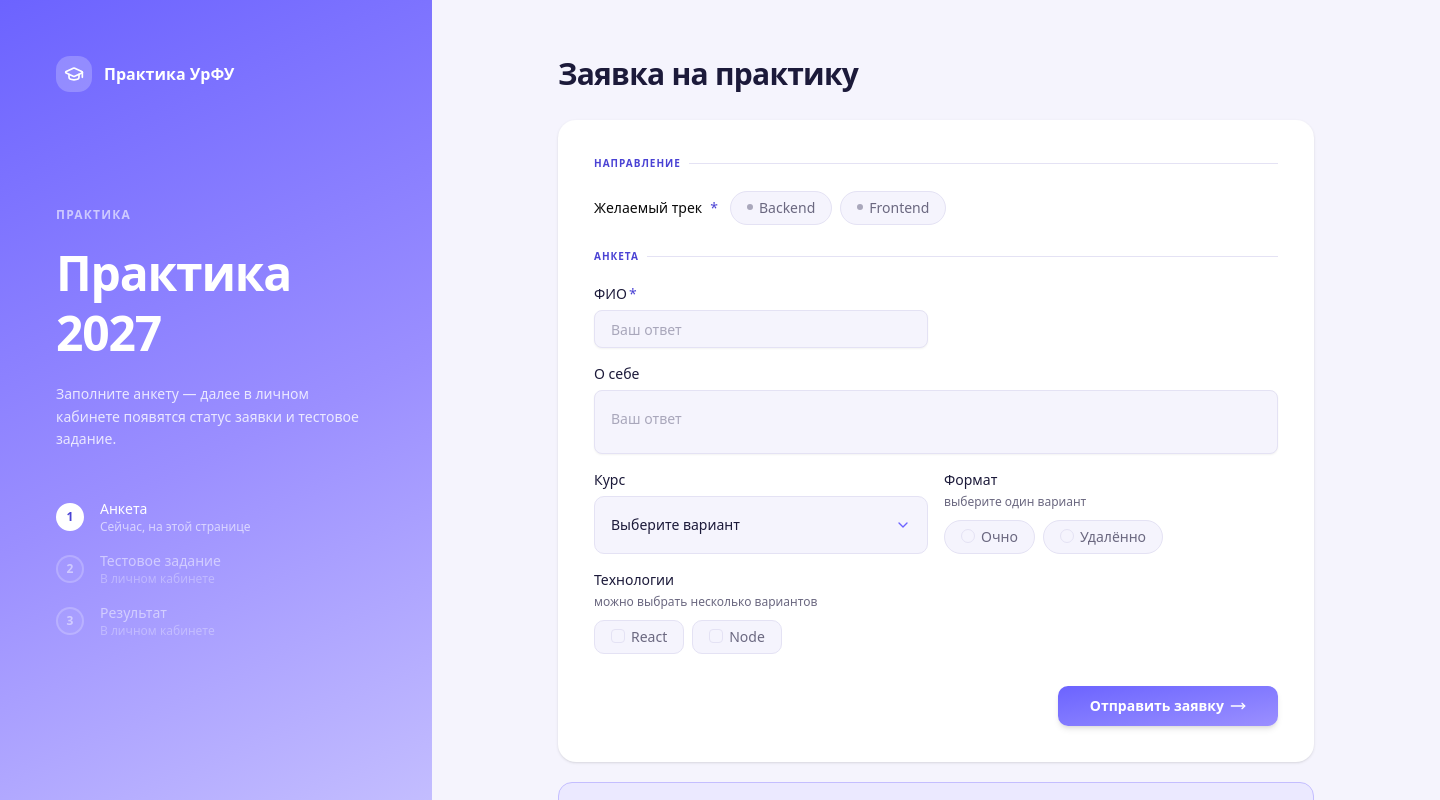
it: ApplyByInvitationPage › отправляет заявку с выбранным треком, ответами на все типы вопросов и показывает подтверждение
Expected: the heading "Заявка на практику" is shown, 558,53 -> 858,94
Click the button "Frontend" at (893, 208), box 840,191 -> 946,225
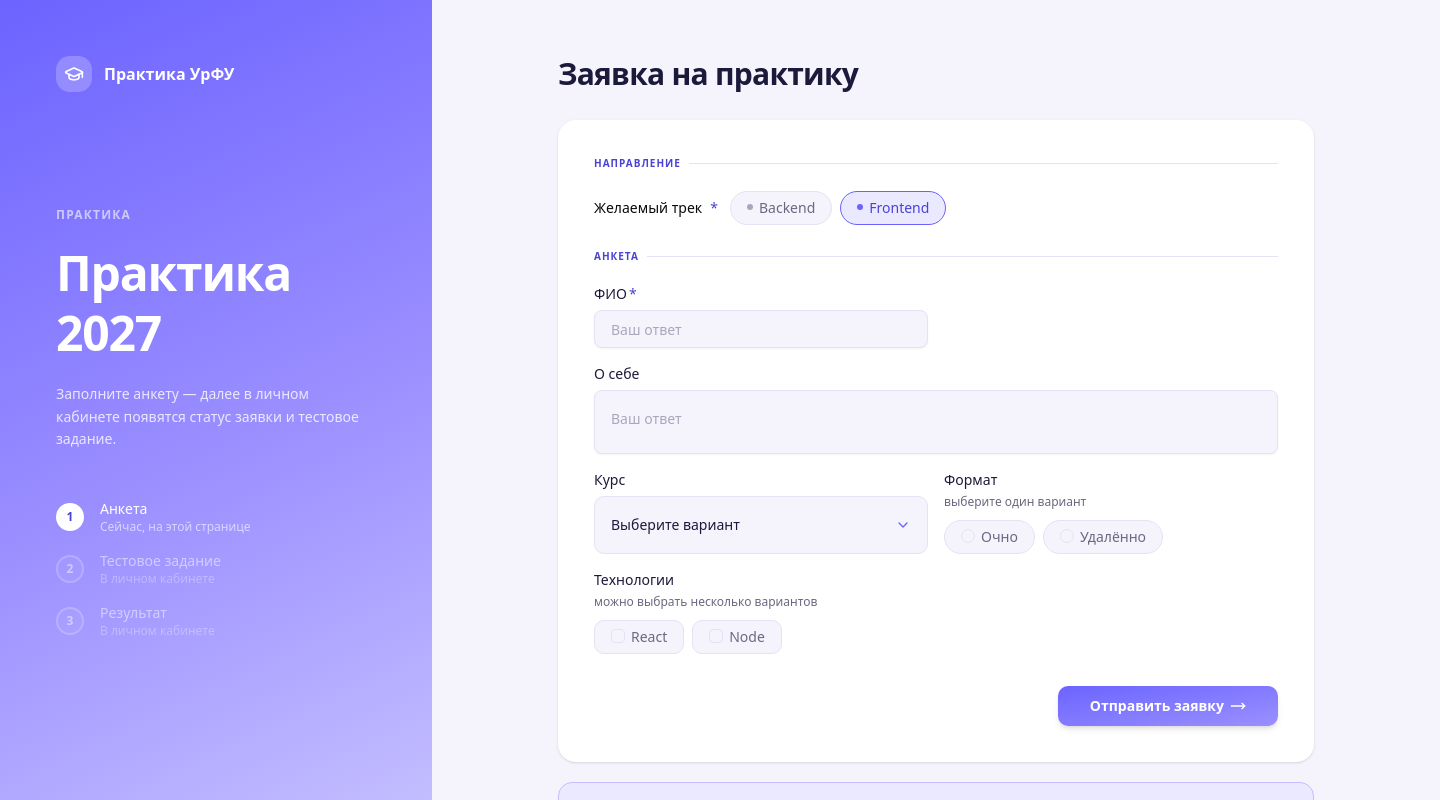
Type "Иванов Иван" into the field with placeholder "Ваш ответ" at (761, 329), box 594,310 -> 928,348
Select "2" in the dropdown at (761, 525), box 594,496 -> 928,554
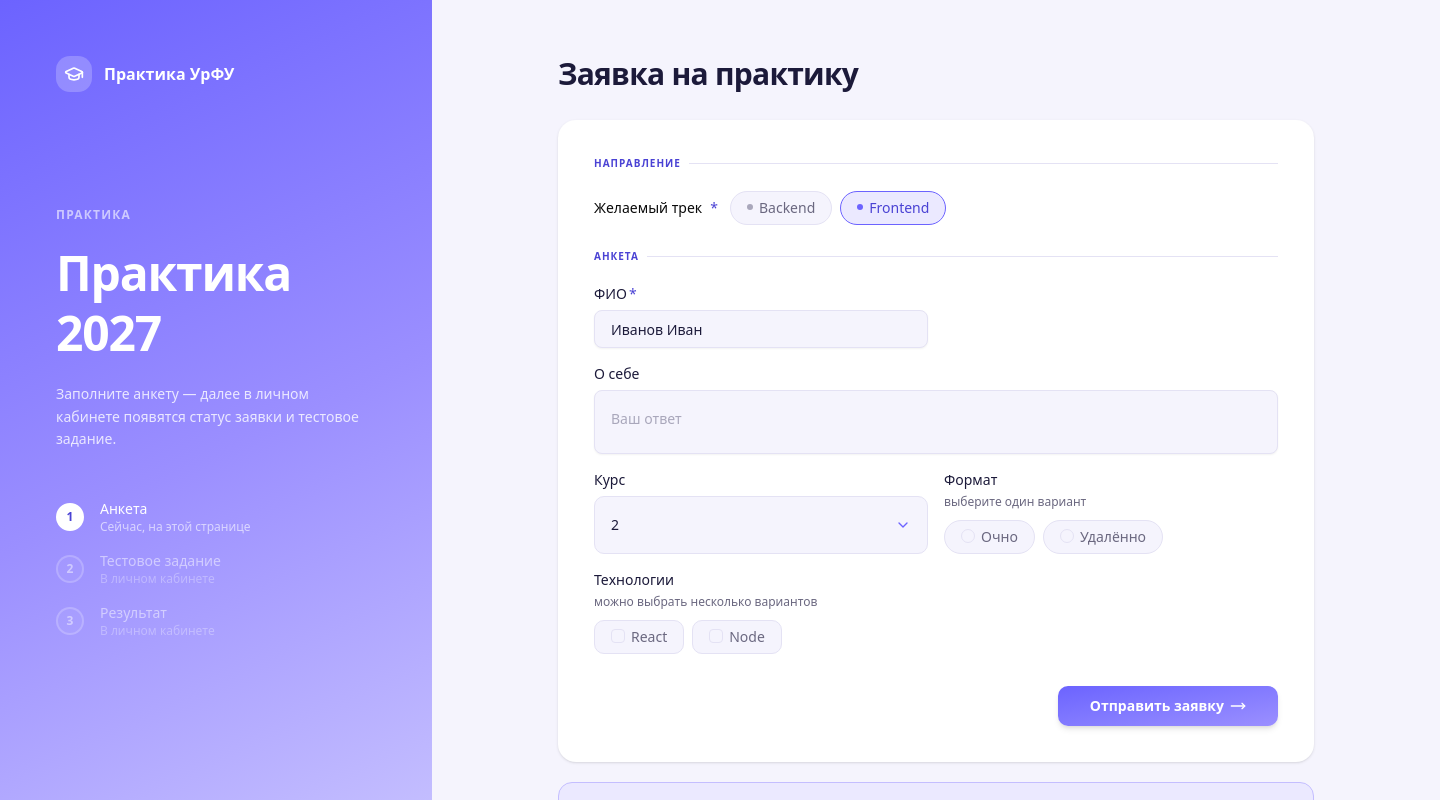
Click the button "Удалённо" at (1103, 537), box 1043,520 -> 1163,554
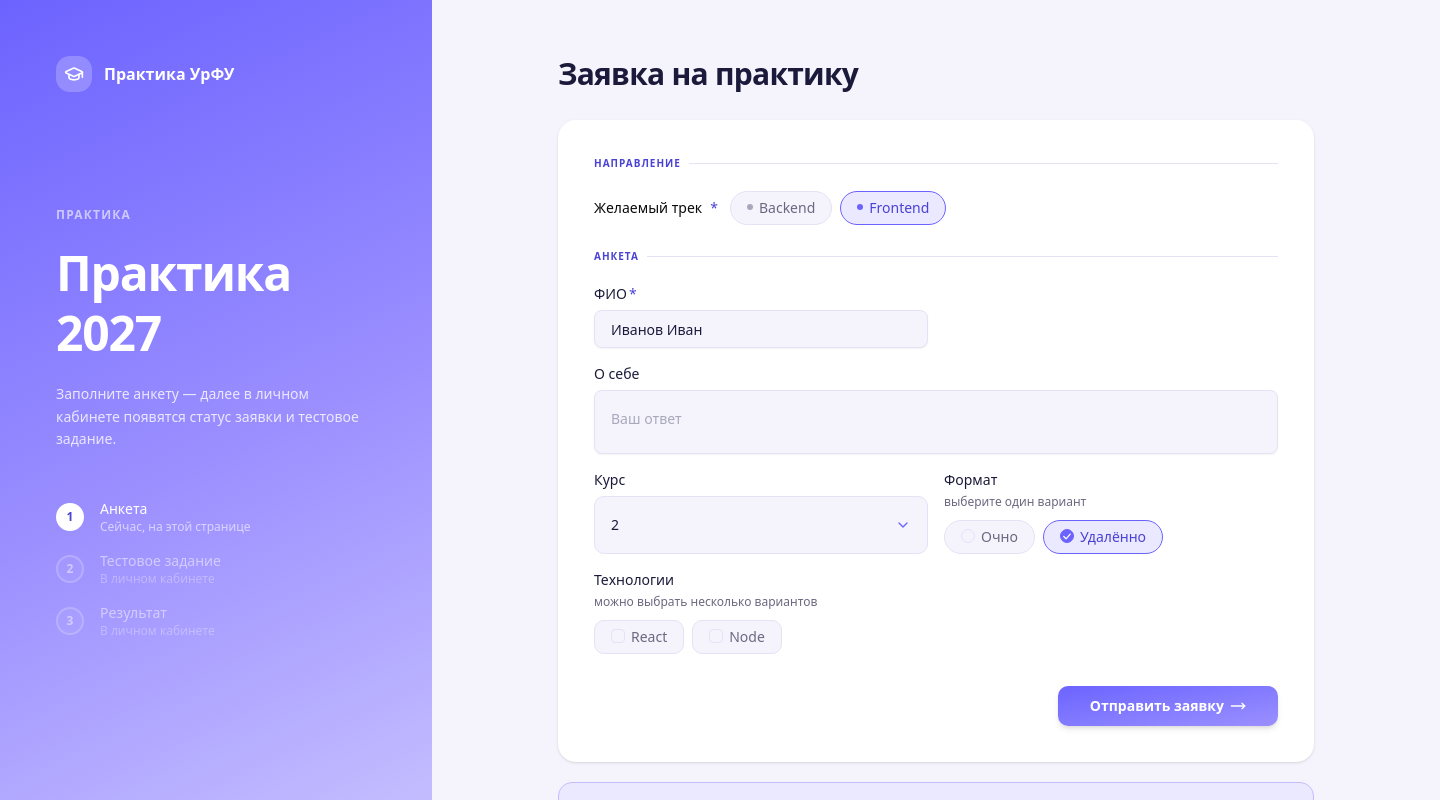
Click the button "React" at (639, 637), box 594,620 -> 684,654
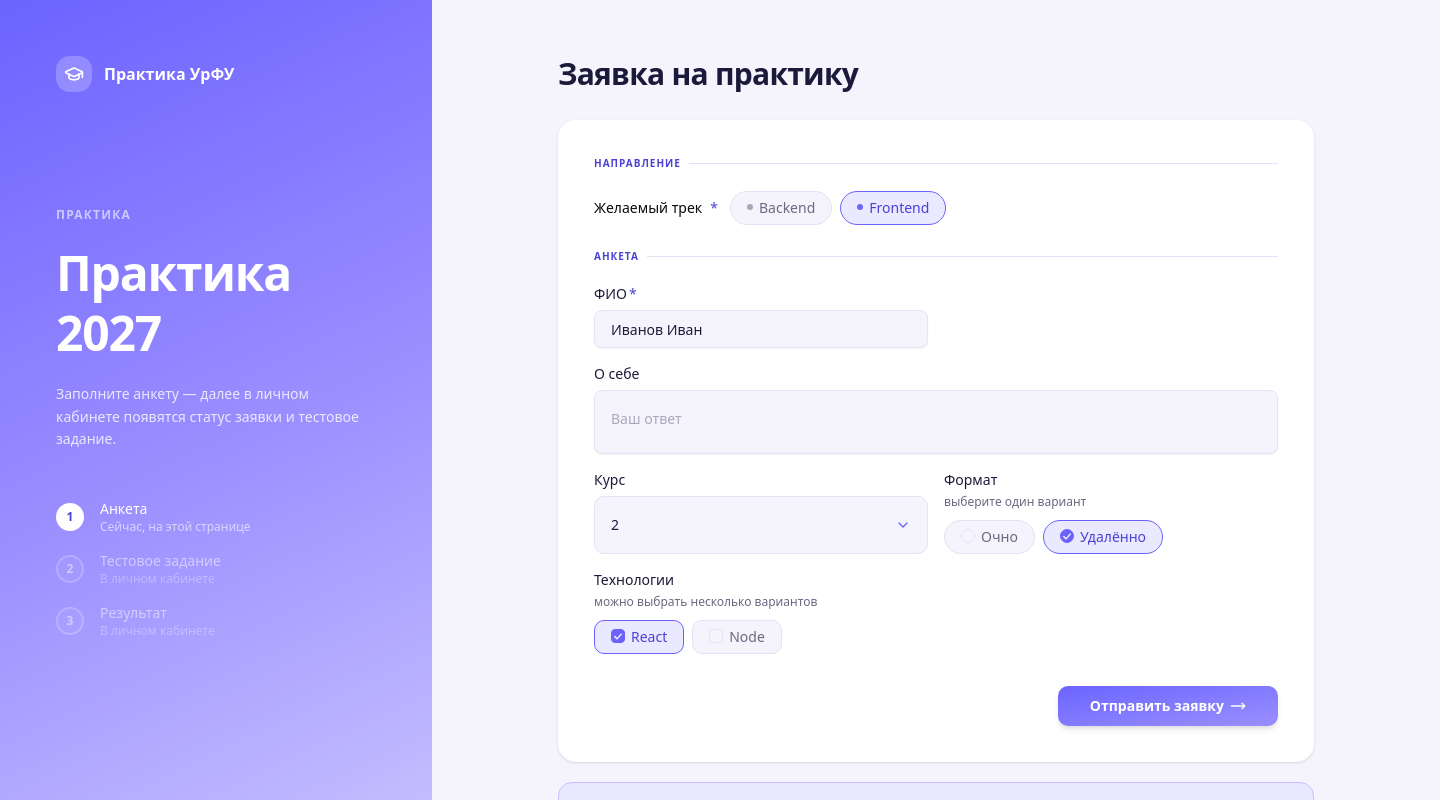
Click the button "Node" at (737, 637), box 692,620 -> 782,654
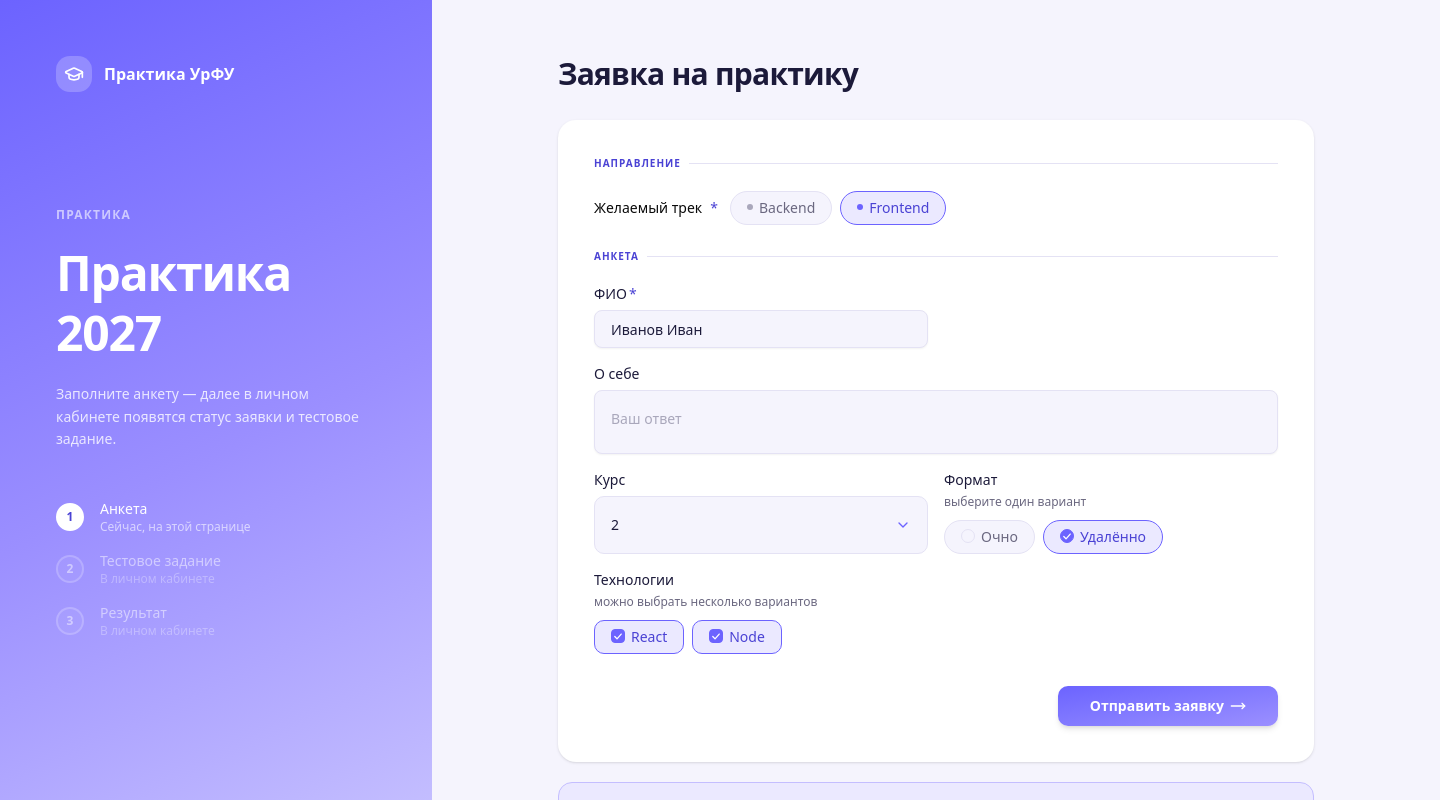
Click the button "Отправить заявку" at (1168, 706), box 1058,686 -> 1278,726
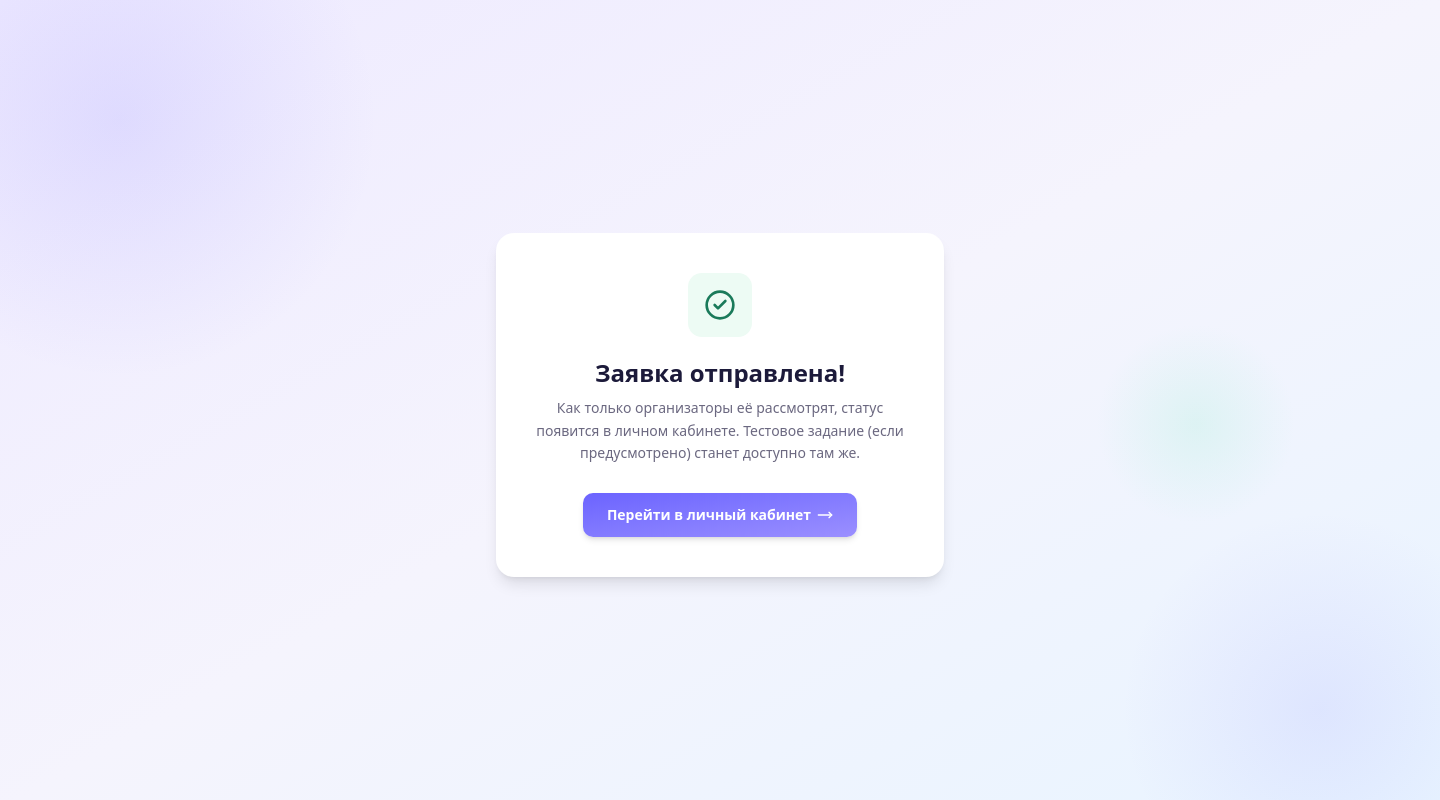
Expected: the heading "Заявка отправлена!" is shown, 595,357 -> 845,389
